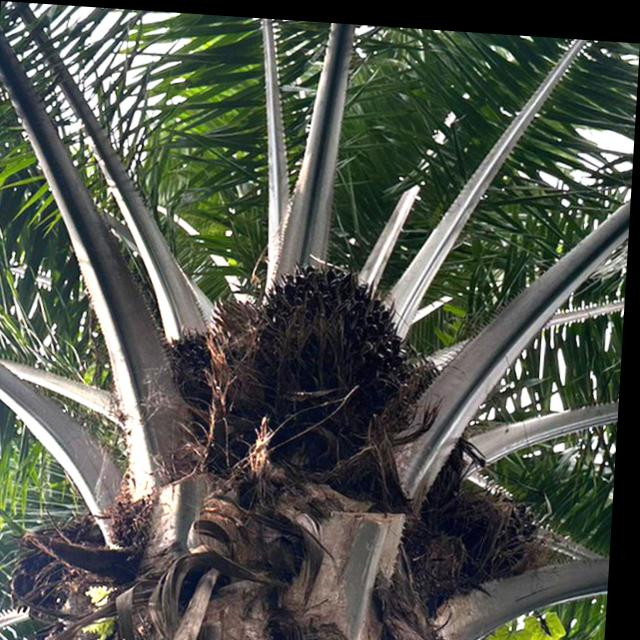ripe: (244, 253, 416, 455)
